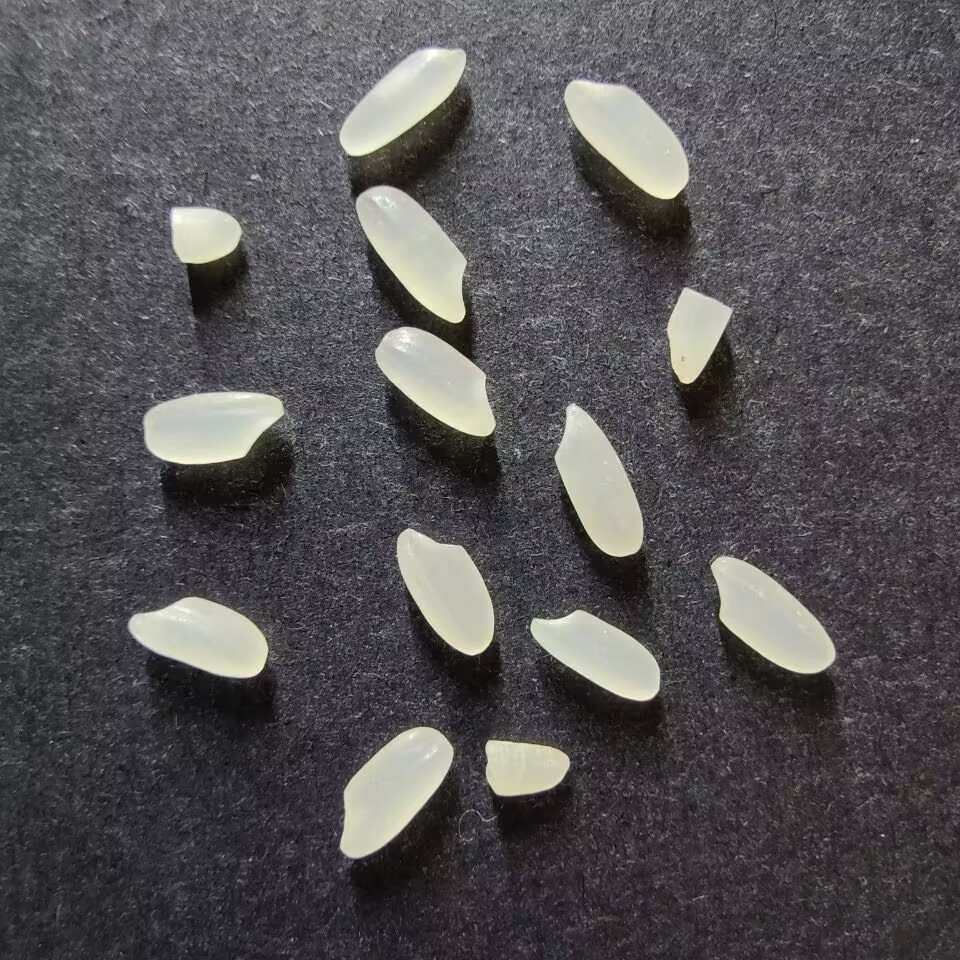broken: (665, 286, 732, 384), (483, 739, 570, 796), (170, 206, 242, 264)
rice: (354, 185, 469, 323), (338, 725, 454, 859), (563, 80, 690, 199), (710, 555, 836, 674), (553, 404, 644, 557), (339, 46, 466, 155), (374, 326, 496, 437), (395, 527, 495, 654), (529, 609, 660, 701), (127, 596, 269, 678), (142, 391, 285, 465)
